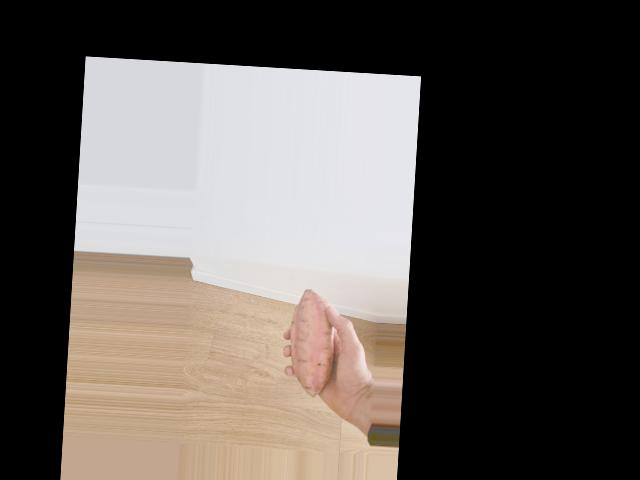sweet_potato: (289, 287, 337, 401)
